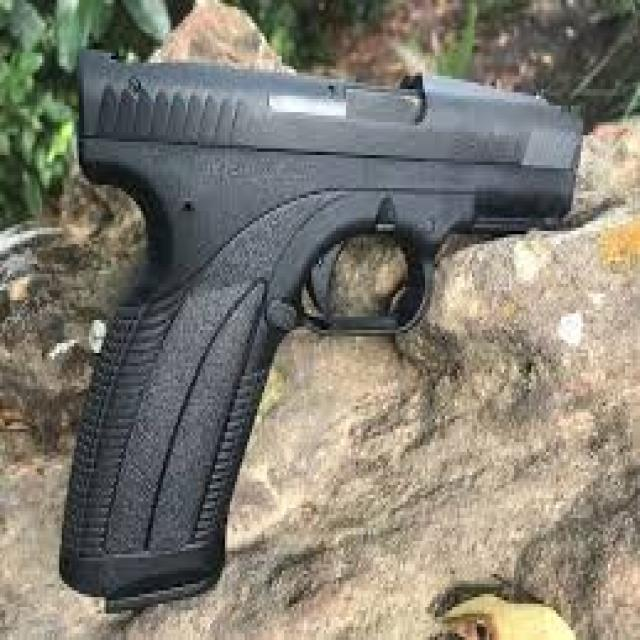Gun: (64, 53, 584, 625)
